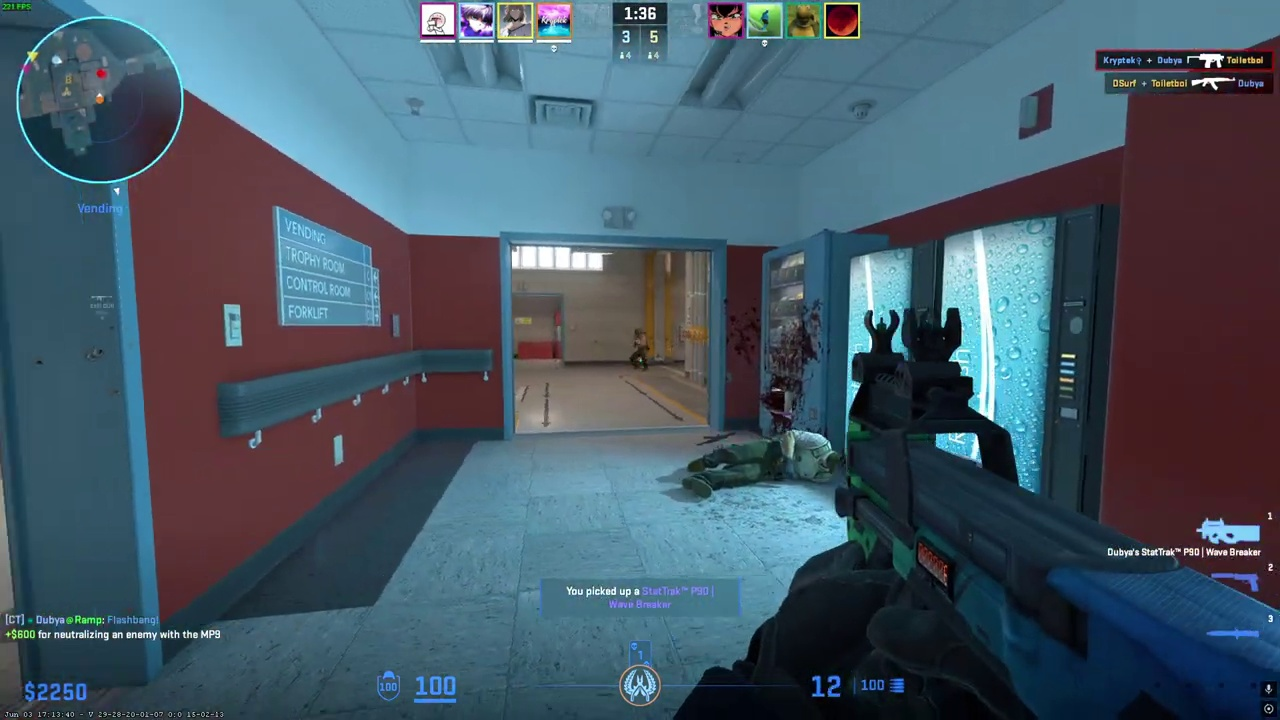Terrorist: (629, 328, 648, 371)
